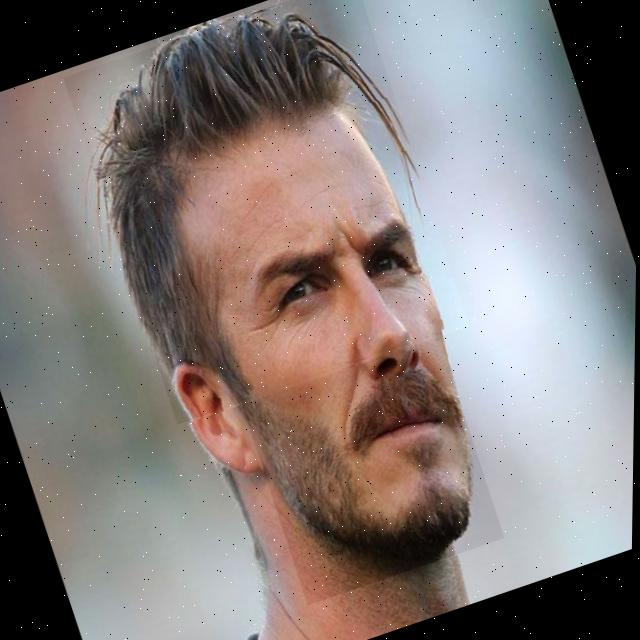beard: (243, 370, 476, 569)
hair: (100, 9, 416, 405)
